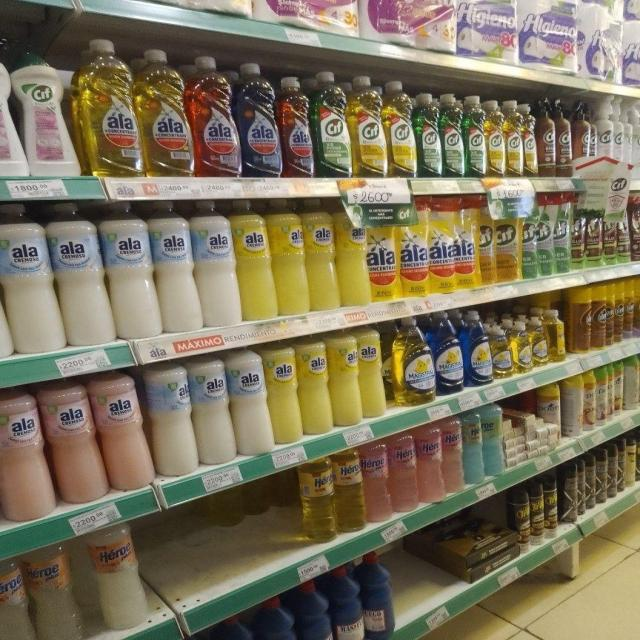ala_conc_amarillo: (78, 36, 139, 176), (139, 48, 192, 177)
ala_conc_azul: (240, 60, 280, 178)
ala_conc_rojo: (192, 54, 239, 178), (281, 74, 315, 178)
ala_crem_amarillo: (236, 199, 273, 323), (272, 198, 306, 317), (306, 198, 338, 312), (268, 340, 299, 446), (338, 199, 368, 307), (300, 335, 330, 436), (331, 327, 360, 427), (360, 324, 387, 419)
ala_crem_blanco: (0, 204, 56, 356), (53, 201, 106, 348), (105, 201, 154, 341), (154, 200, 196, 334), (147, 359, 194, 478), (195, 199, 237, 329), (192, 354, 232, 466), (230, 347, 269, 456)
ala_crem_rosado: (47, 378, 100, 506), (97, 370, 149, 492), (0, 390, 48, 522)
ala_sachet_amarillo: (369, 202, 399, 302), (400, 198, 429, 298), (430, 197, 455, 294), (457, 196, 479, 290)
cif_conc_bot_amarilla: (352, 76, 386, 178), (386, 80, 415, 178), (537, 97, 556, 177), (486, 98, 504, 178), (506, 99, 522, 178), (524, 100, 538, 178)
cif_conc_botella_verde: (315, 70, 350, 179), (416, 90, 440, 178), (442, 93, 464, 178), (465, 95, 485, 178)
cif_conc_sachet_amarillo: (496, 196, 520, 282), (479, 197, 496, 286)
cif_conc_sachet_verde: (521, 197, 538, 279), (539, 196, 554, 276), (555, 194, 570, 274)
heroe: (86, 524, 148, 631), (29, 544, 83, 640), (299, 457, 334, 545), (335, 447, 364, 535), (0, 558, 29, 640), (390, 432, 418, 514), (364, 439, 390, 524), (418, 422, 443, 504), (463, 408, 484, 486), (443, 415, 463, 495)
magistral_con_amarillo: (392, 316, 434, 406), (492, 318, 512, 379), (512, 318, 531, 375), (531, 314, 548, 368)
magistral_con_azul: (434, 312, 464, 396), (464, 310, 492, 386), (214, 615, 266, 640)
